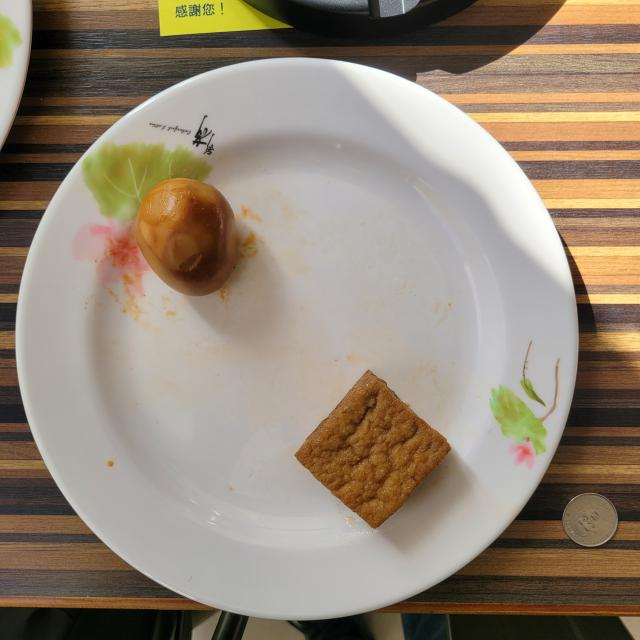coin: (562, 492, 618, 548)
egg tofu: (295, 370, 451, 529)
soy egg: (136, 179, 236, 296)
